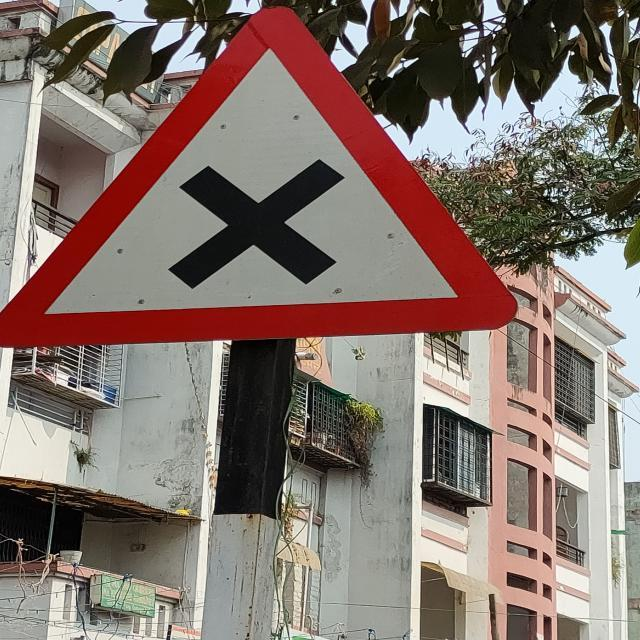cross road: (13, 14, 514, 346)
